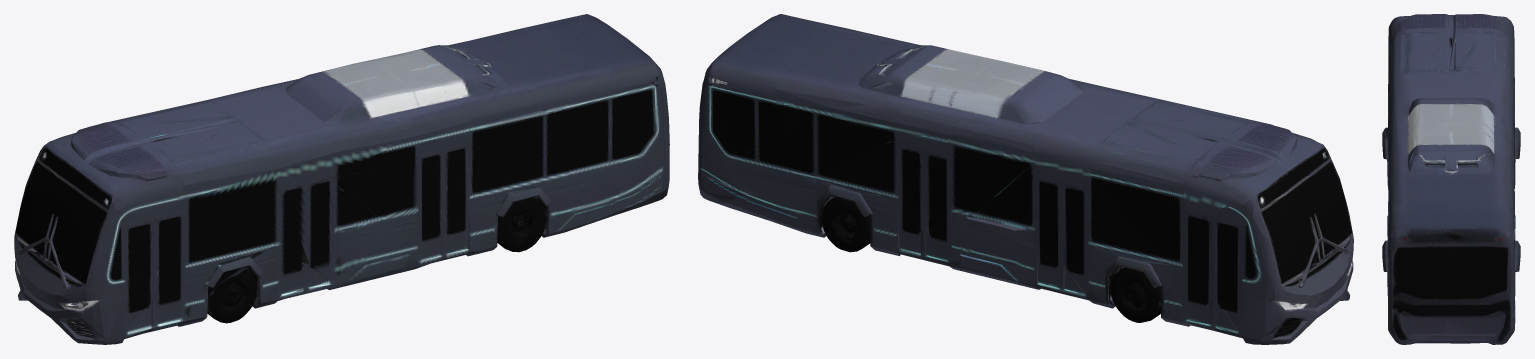
The model's file is bus.glb.
3 views of the same model, side by side, from view 1: azimuth 30°, elevation 25°; view 2: azimuth 150°, elevation 25°; view 3: azimuth 270°, elevation 25° (orthographic). The views are drawn at different scales.
Size of the model in its own units: 1.9 by 0.5266 by 0.474.
Materials: 1 (1 with a texture image).
